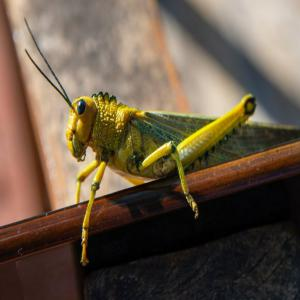locust: (32, 69, 300, 193)
